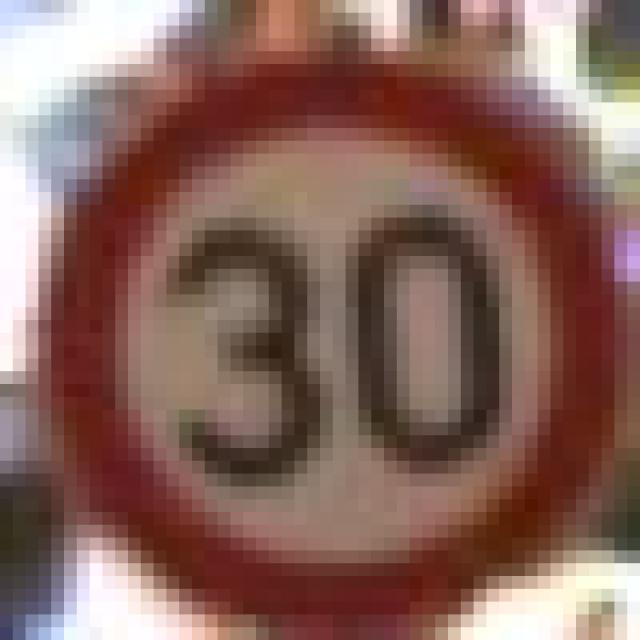SPEED_LIMIT_30: (26, 26, 602, 614)
